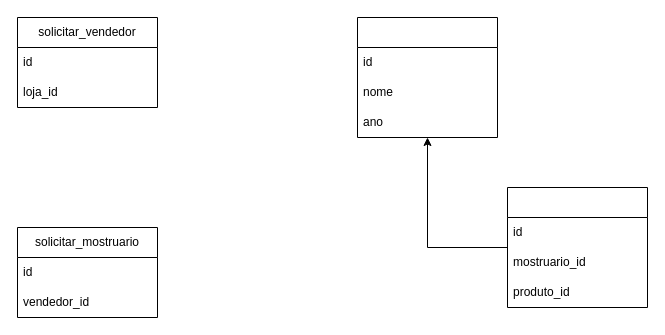
This 665x335 diagram has some shape labels left out. Each missing label, with the box of its shape:
mostruario: (356, 16, 498, 138)
mostruario_produtos: (506, 186, 648, 308)
